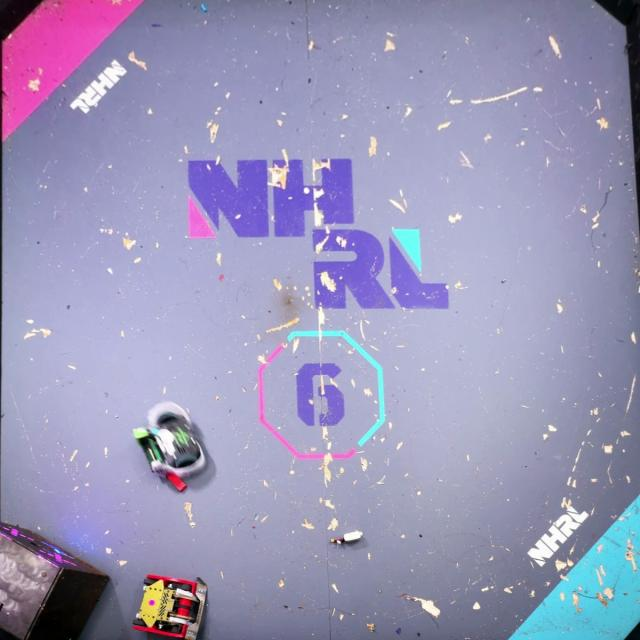housebot: (0, 518, 109, 640)
robot: (132, 398, 209, 492), (132, 570, 211, 640)
